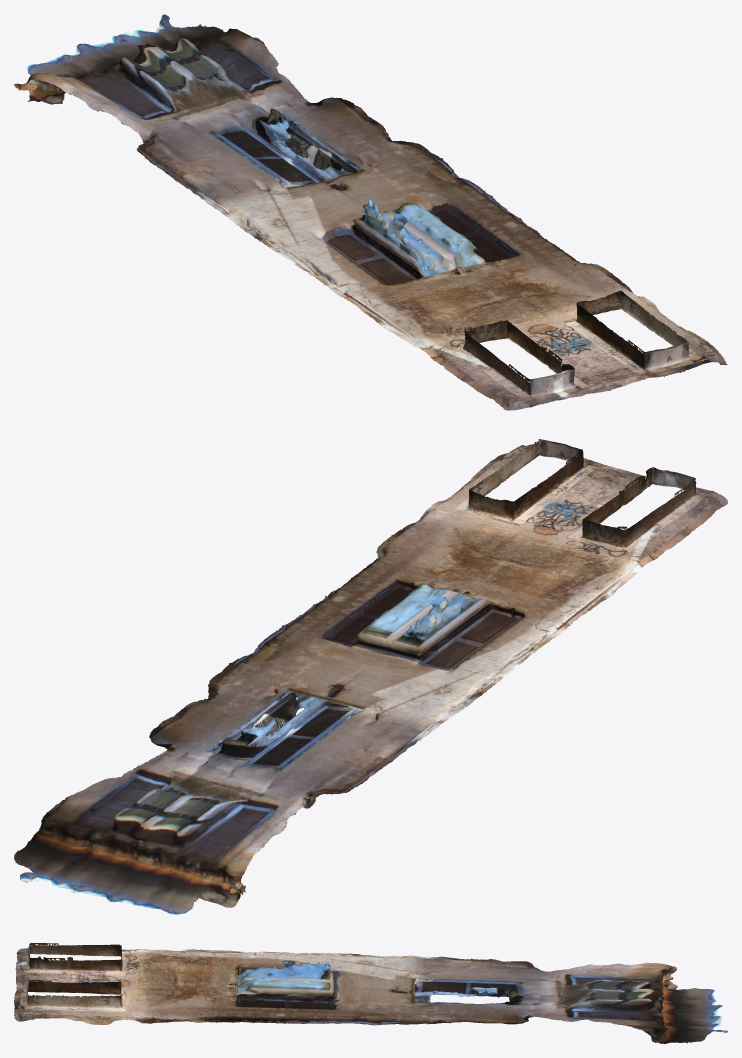
The picture shows the model from 3 angles, top to bottom: view 1: azimuth 30°, elevation 25°; view 2: azimuth 150°, elevation 25°; view 3: azimuth 270°, elevation 25°; orthographic projection. The views are drawn at different scales.
Parts seen in each view (by area): view 1: Object_1; view 2: Object_1; view 3: Object_1.
Boxes of the visible parts, x1,y1,x2,y2 form: Object_1: (14,14,727,410); Object_1: (14,439,727,914); Object_1: (14,943,727,1043).
Bounding box in the file's own units: 13.22 × 53.96 × 4.33.
Materials: 1 (1 with a texture image).
